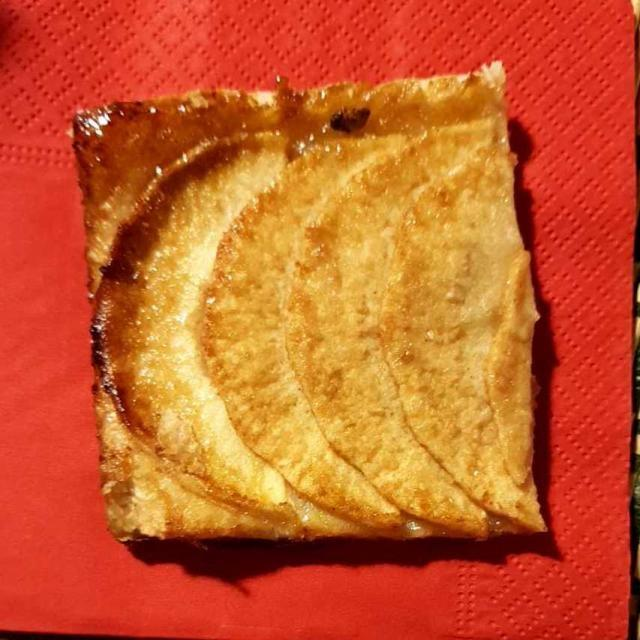apple-pie: (64, 54, 577, 536)
